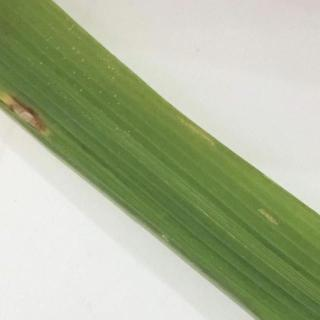Blast: (0, 86, 58, 144)
